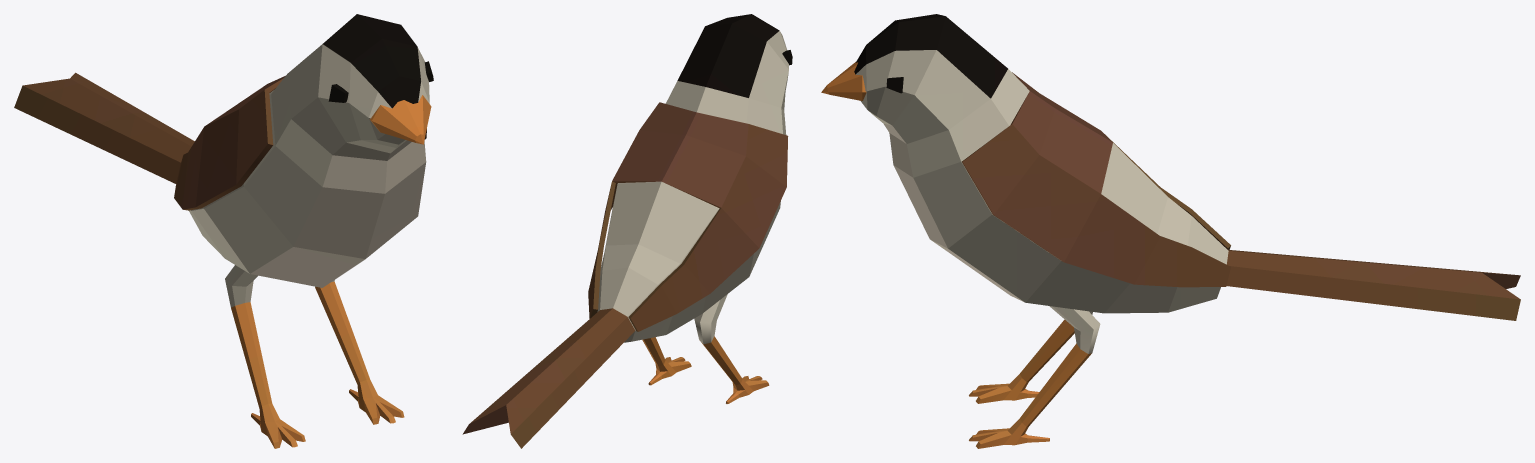
File: animals-sparrow-191.glb
3 views of the same model, side by side, from view 1: azimuth 30°, elevation 25°; view 2: azimuth 150°, elevation 25°; view 3: azimuth 270°, elevation 25° (orthographic). The views are drawn at different scales.
Parts seen in each view (by area): view 1: Geo_Sparrow; view 2: Geo_Sparrow; view 3: Geo_Sparrow.
Part boxes in pixels (left/top/right/bottom): Geo_Sparrow: left=14, top=14, right=433, bottom=448; Geo_Sparrow: left=462, top=14, right=792, bottom=448; Geo_Sparrow: left=821, top=14, right=1520, bottom=448.
Size of the model in its own units: 24.87 by 52.33 by 82.33.
1 material, 1 textured.
